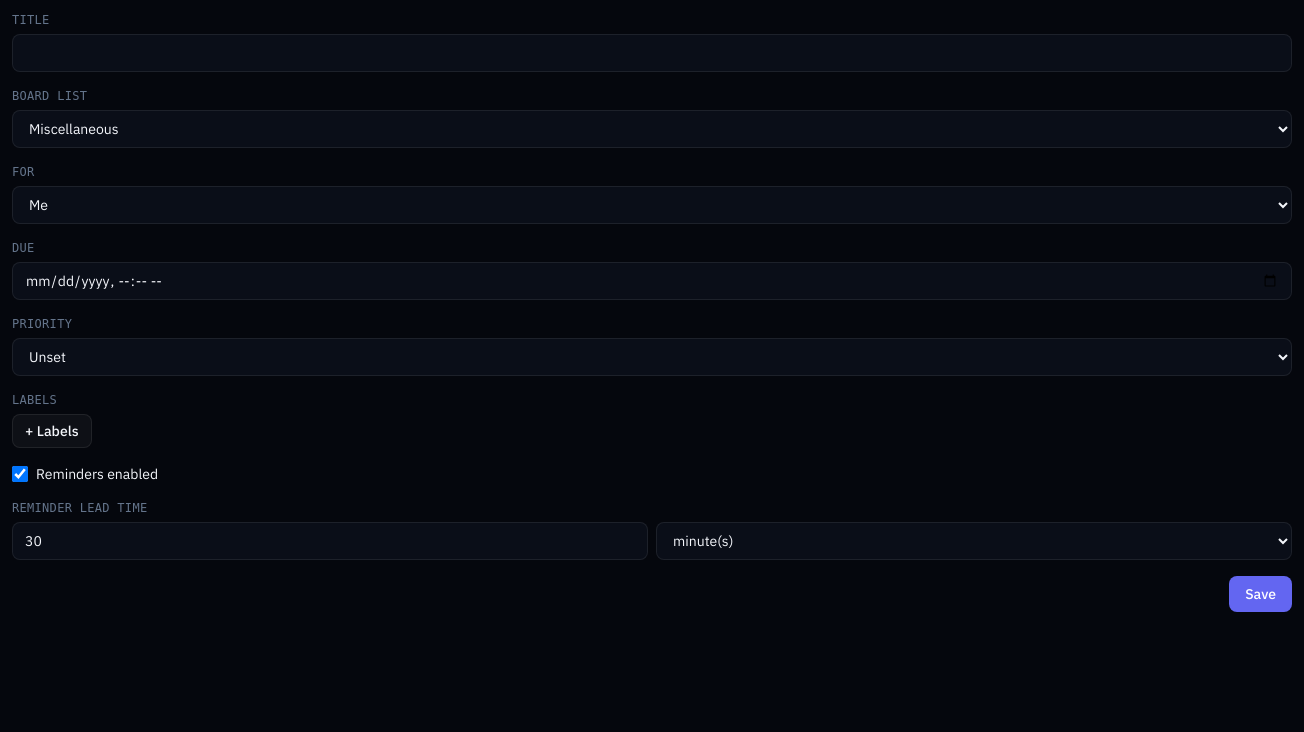
Test case: TaskForm › adds and removes a label chip
The image size is (1304, 732).
Click the button "+ Labels" at (52, 431), box [12, 414, 92, 448]
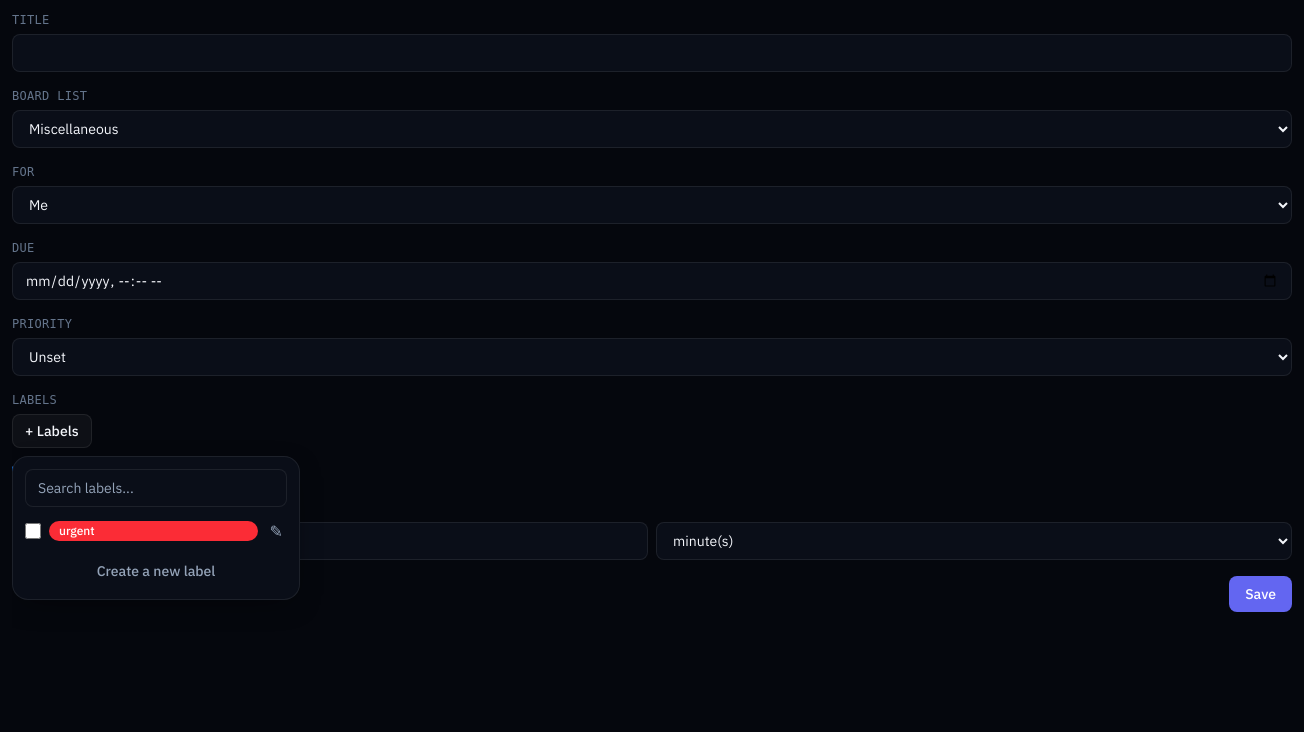
Click the checkbox named "Toggle label urgent" at (33, 531), box [25, 523, 41, 539]
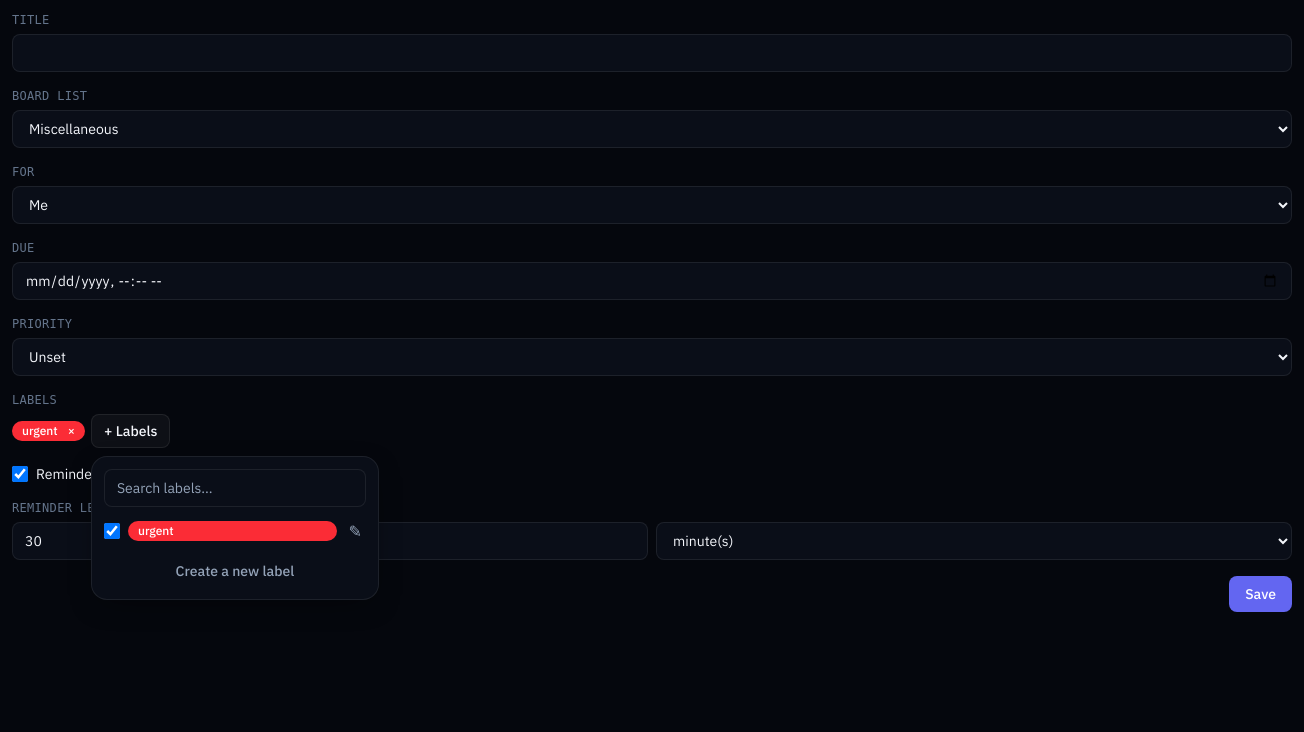
Press the mouse on the element that starts with "Title" at (652, 372), box [12, 12, 1292, 731]
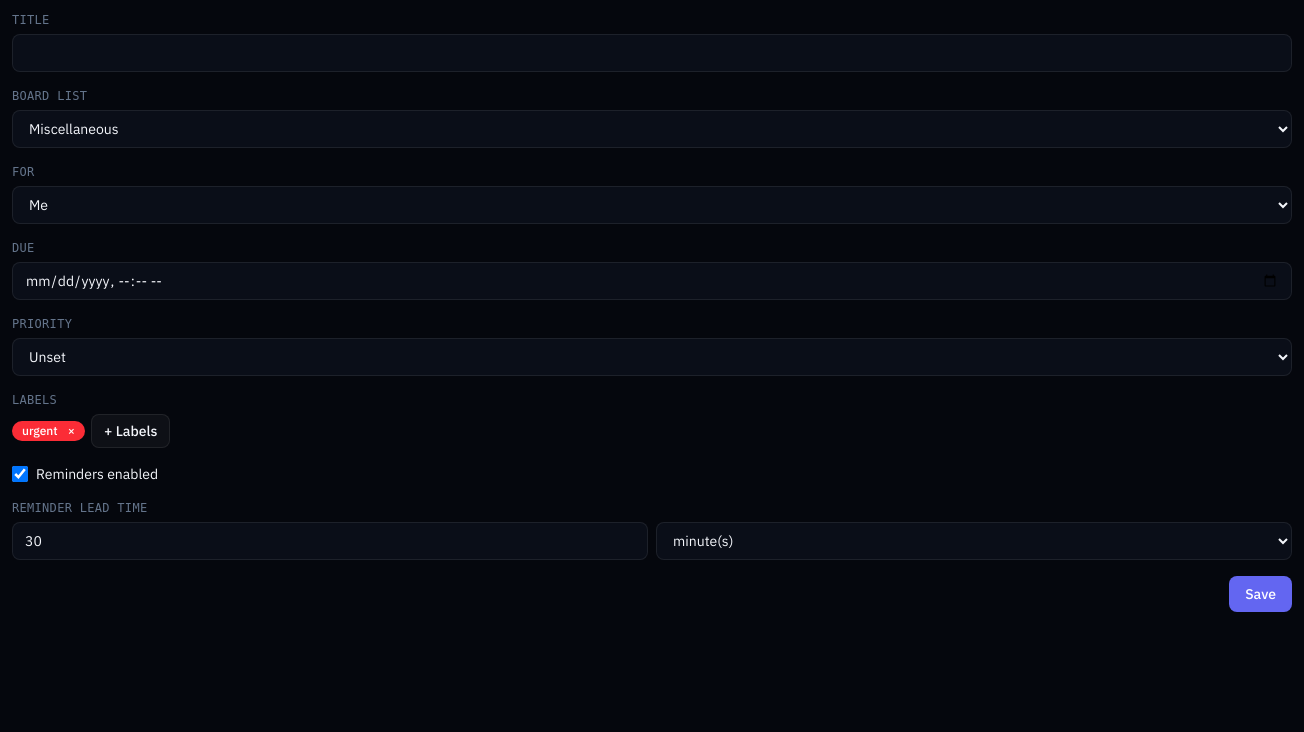
Check: the text "urgent" is shown, box [22, 423, 58, 438]
Click the button named "Remove label urgent" at (71, 431), box [68, 423, 75, 439]
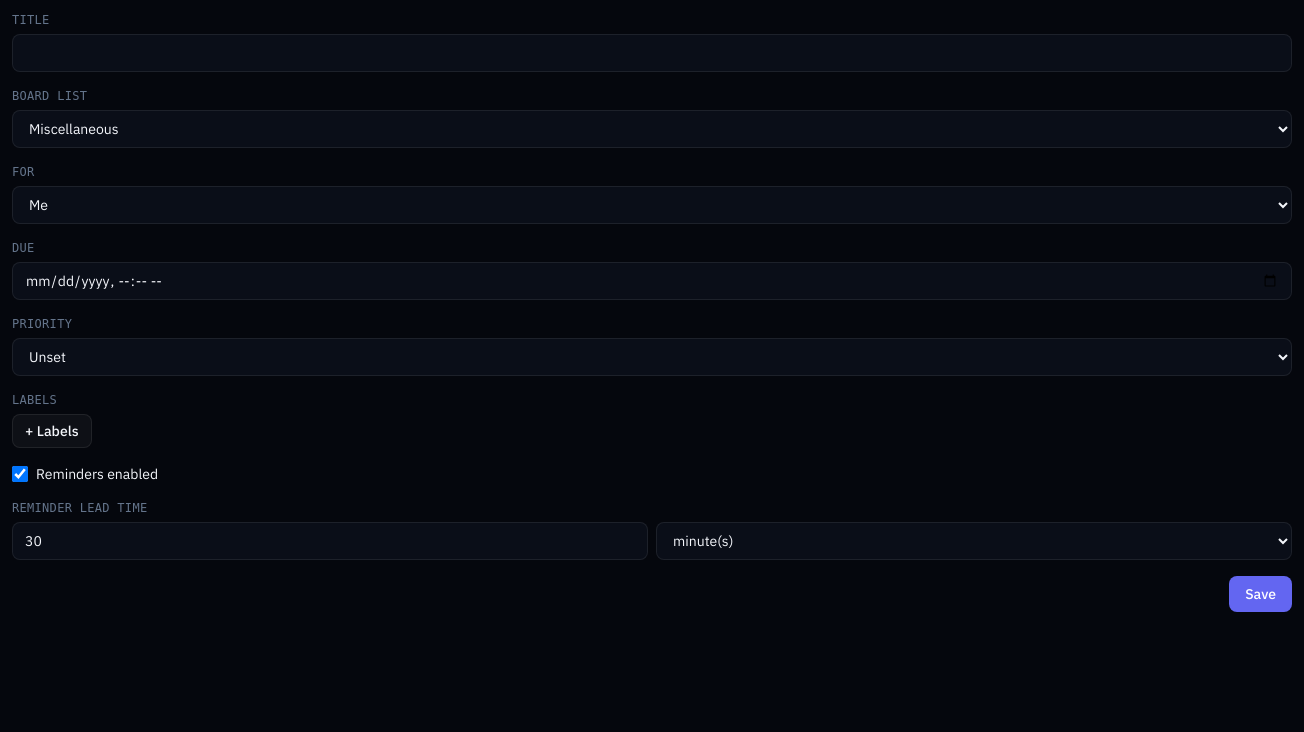
Check: the text "urgent" is gone
